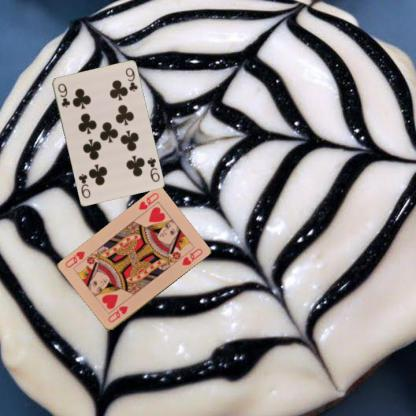9c: (55, 81, 71, 109), (144, 155, 160, 183)
Qh: (136, 190, 160, 212), (105, 303, 130, 324)
